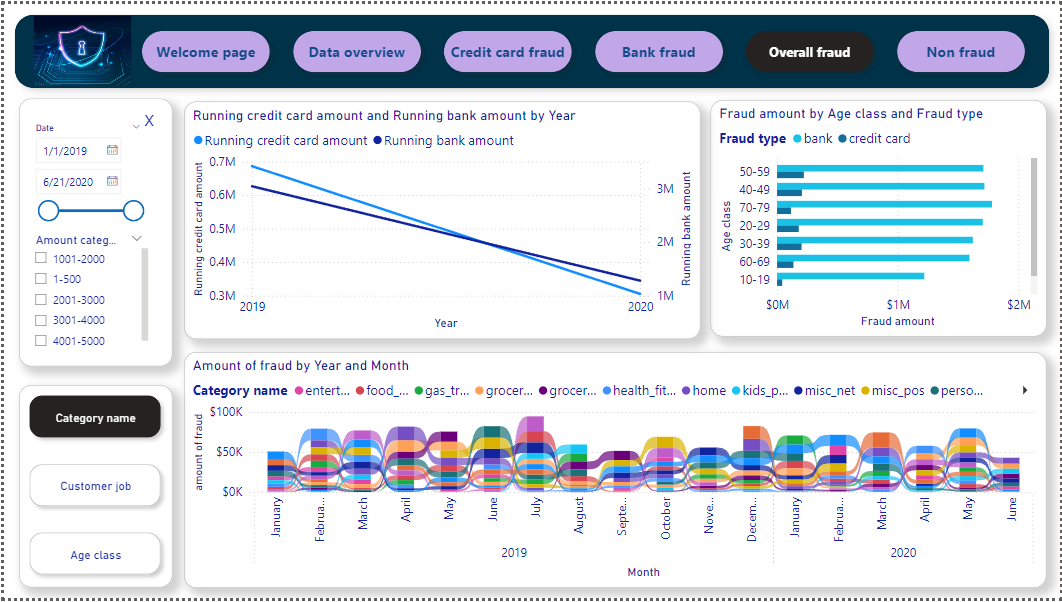

The page's visual inventory and layout, read from the dashboard file:
{"tool":"powerbi","page":{"name":"Overall fraud","canvas":[1280,720],"ordinal":4},"visuals":[{"type":"actionButton","box":[0,0,1280,115],"z":0,"group":"g2"},{"type":"image","box":[30,9,128,95],"z":1000,"group":"g2"},{"type":"pageNavigator","box":[158.3,23.3,1090,68.3],"z":1500,"group":"g2"},{"type":"actionButton","box":[17.5,115.8,186,324.6],"z":2000,"group":"g1"},{"type":"lineChart","fields":{"Category":["Calendar.Date.Variation.Date Hierarchy.Year","Calendar.Date.Variation.Date Hierarchy.Quarter"],"Y":["fraud_dwh f_transaction.running credit card amount"],"Y2":["fraud_dwh f_transaction.running bank amount"]},"box":[217.5,117.5,626.3,287.7],"z":2000},{"type":"clusteredBarChart","fields":{"Category":["fraud_dwh f_transaction.age_category"],"Series":["fraud_dwh d_fraud.fraud_type"],"Y":["Sum(fraud_dwh f_transaction.amount)"]},"box":[856.6,117,407.5,286.8],"z":3000},{"type":"slicer","fields":{"Values":["Calendar.Date"]},"box":[25.3,139,152.6,129.8],"z":3000,"group":"g1"},{"type":"group","id":"g1","title":"Group 2","box":[17.5,115,186,325.4],"z":4000},{"type":"ribbonChart","title":"Amount of fraud by Year and Month","fields":{"Series":["fraud_dwh f_transaction.age_category"],"Y":["fraud_dwh f_transaction.amount of fraud"],"Category":["Calendar.Date.Variation.Date Hierarchy.Year","Calendar.Date.Variation.Date Hierarchy.Month"]},"box":[217.5,421.1,1045.6,286],"z":5000},{"type":"advancedSlicerVisual","fields":{"Values":["dimensions.dimensions"]},"box":[17.5,461.4,186,245.6],"z":6000},{"type":"slicer","fields":{"Values":["fraud_dwh f_transaction.amount_category"]},"box":[25.3,274.1,154.4,157.9],"z":7000,"group":"g1"},{"type":"group","id":"g2","title":"Group 1","box":[0,0,1280,115],"z":7001},{"type":"actionButton","box":[148,115,54.4,50.9],"z":7500,"group":"g1"}]}

Visuals, with their boxes in screenshot pixels (x1, y1, x2, y2), scaled from the page's 1280x720 canvas onto the 1062x602 screenshot:
actionButton: crop(0, 0, 1061, 96)
image: crop(25, 8, 131, 87)
pageNavigator: crop(131, 19, 1036, 77)
actionButton: crop(15, 97, 169, 368)
lineChart - Calendar.Date.Variation.Date Hierarchy.Year x Calendar.Date.Variation.Date Hierarchy.Quarter: crop(180, 98, 700, 339)
clusteredBarChart - fraud_dwh f_transaction.age_category x fraud_dwh d_fraud.fraud_type: crop(711, 98, 1049, 338)
slicer - Calendar.Date: crop(21, 116, 148, 225)
"Group 2" group: crop(15, 96, 169, 368)
"Amount of fraud by Year and Month" ribbonChart: crop(180, 352, 1048, 591)
advancedSlicerVisual - dimensions.dimensions: crop(15, 386, 169, 591)
slicer - fraud_dwh f_transaction.amount_category: crop(21, 229, 149, 361)
"Group 1" group: crop(0, 0, 1061, 96)
actionButton: crop(123, 96, 168, 139)
